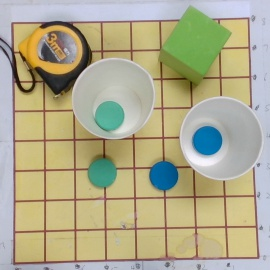blue: (149, 159, 178, 190)
cup_blue: (178, 97, 262, 182)
cup_green: (71, 57, 156, 141)
green: (87, 159, 118, 188)
